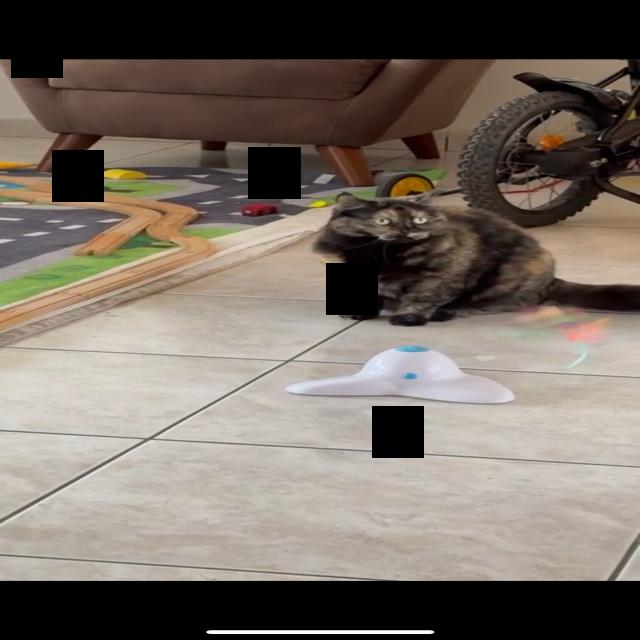authorized: (310, 187, 638, 327)
